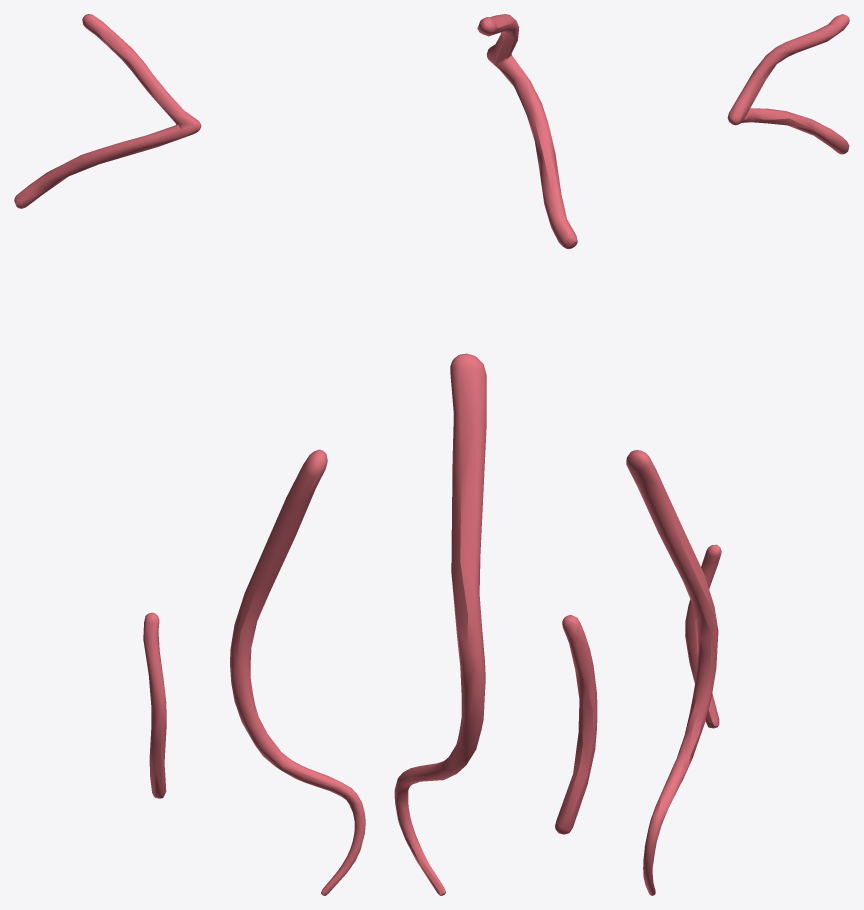
The model's file is fma70486_fj3562.glb.
3 renders of one model, left to right at view 1: azimuth 30°, elevation 25°; view 2: azimuth 150°, elevation 25°; view 3: azimuth 270°, elevation 25°, orthographic. The views are drawn at different scales.
Visible parts, largest first — view 1: FMA70486_FJ3562; view 2: FMA70486_FJ3562; view 3: FMA70486_FJ3562.
Part boxes in pixels (x1,y1,x2,y2): FMA70486_FJ3562: [14, 14, 365, 895]; FMA70486_FJ3562: [394, 14, 597, 895]; FMA70486_FJ3562: [626, 14, 849, 895].
Bounding box in the file's own units: 0.0179 × 0.0573 × 0.0142.
